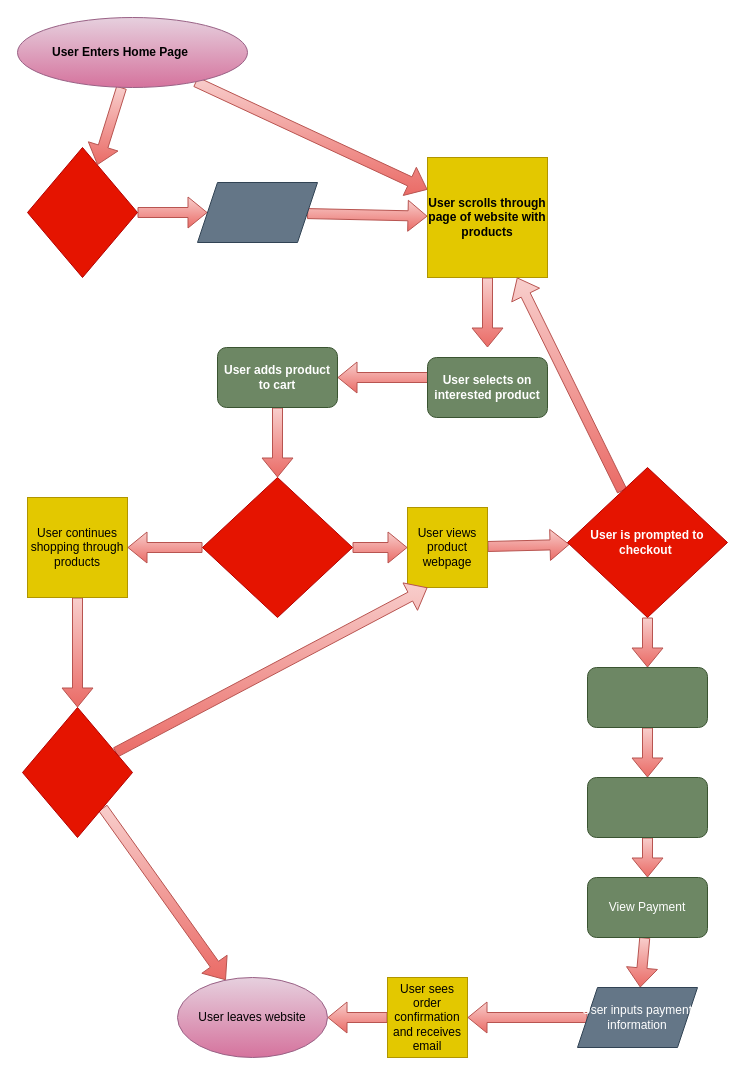
Image size: 745x1075. Some labels were removed from this diagram. The shapes that lost their labels are listed below. From the top down, each one's box as (x1, y1, x2, y2) in pixels, then its label:
(26, 146, 138, 278): User searches a product
(196, 182, 318, 242): User Inputs Product Search
(202, 476, 352, 618): User is prompted to continue shopping or view product page
(586, 666, 708, 728): User Checks Out
(22, 706, 132, 838): User searches another product
(586, 776, 708, 838): View Cart Appears
